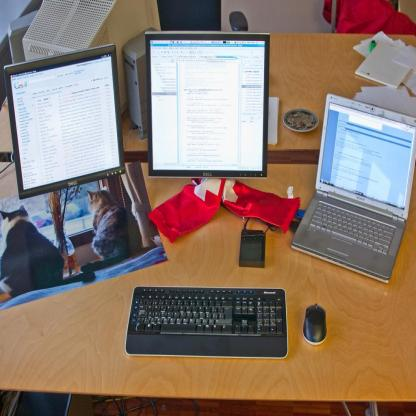board: (299, 89, 410, 293)
